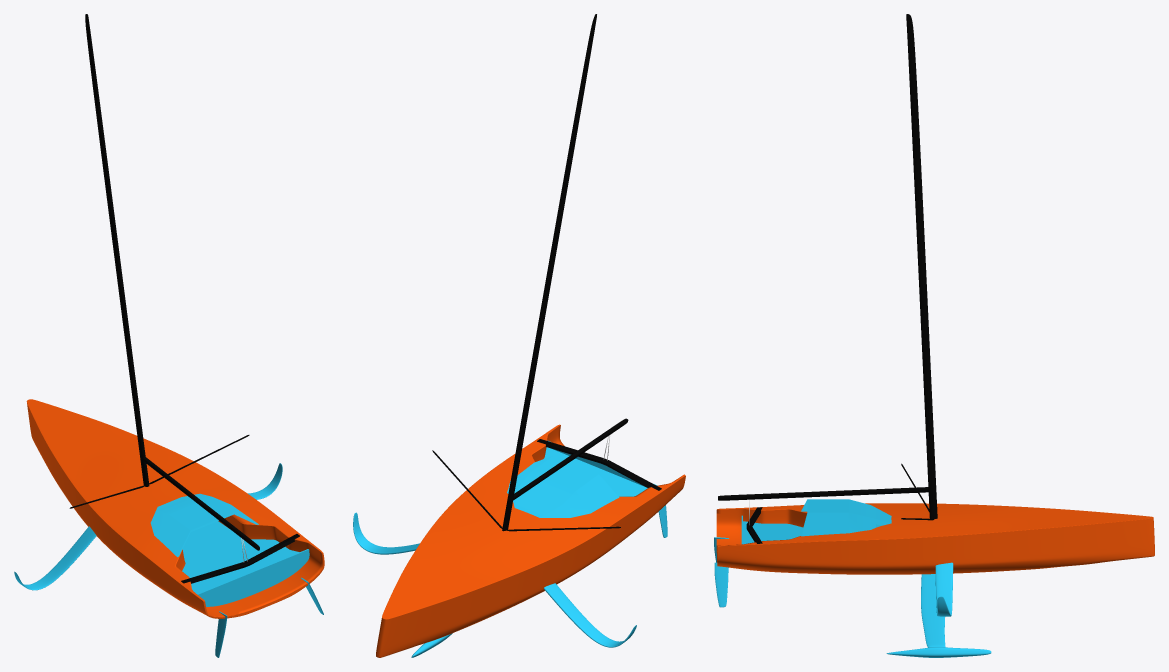
File: imoca.glb
3 views of the same model, side by side, from view 1: azimuth 30°, elevation 25°; view 2: azimuth 150°, elevation 25°; view 3: azimuth 270°, elevation 25° (orthographic). The views are drawn at different scales.
Parts seen in each view (by area): view 1: Cube, Plane.001, Cube.001, Cube.009, Cube.008, Cube.004, Cube.007, Cube.010; view 2: Cube, Cube.009, Cube.001, Cube.004, Plane.001, Cube.010, Cube.007, Cube.003; view 3: Cube, Cube.001, Cube.009, Cube.002, Cube.007, Cube.003, Plane.001.
Boxes of the visible parts, bbox=[...] form: Cube: bbox=[26, 399, 324, 618]; Plane.001: bbox=[182, 521, 299, 593]; Cube.001: bbox=[85, 14, 149, 486]; Cube.009: bbox=[150, 493, 258, 557]; Cube.008: bbox=[197, 549, 309, 606]; Cube.004: bbox=[14, 526, 96, 590]; Cube.007: bbox=[143, 457, 259, 550]; Cube.010: bbox=[181, 534, 299, 583]; Cube: bbox=[376, 424, 685, 657]; Cube.009: bbox=[507, 455, 619, 517]; Cube.001: bbox=[502, 14, 596, 531]; Cube.004: bbox=[543, 583, 636, 647]; Plane.001: bbox=[544, 447, 647, 496]; Cube.010: bbox=[537, 439, 661, 490]; Cube.007: bbox=[513, 418, 628, 500]; Cube.003: bbox=[353, 512, 419, 554]; Cube: bbox=[716, 503, 1154, 574]; Cube.001: bbox=[906, 14, 937, 518]; Cube.009: bbox=[801, 499, 891, 536]; Cube.002: bbox=[886, 574, 991, 657]; Cube.007: bbox=[718, 487, 928, 500]; Cube.003: bbox=[935, 562, 953, 616]; Plane.001: bbox=[743, 521, 802, 544].
Size of the model in its own units: 12.13 by 26.87 by 18.41.
